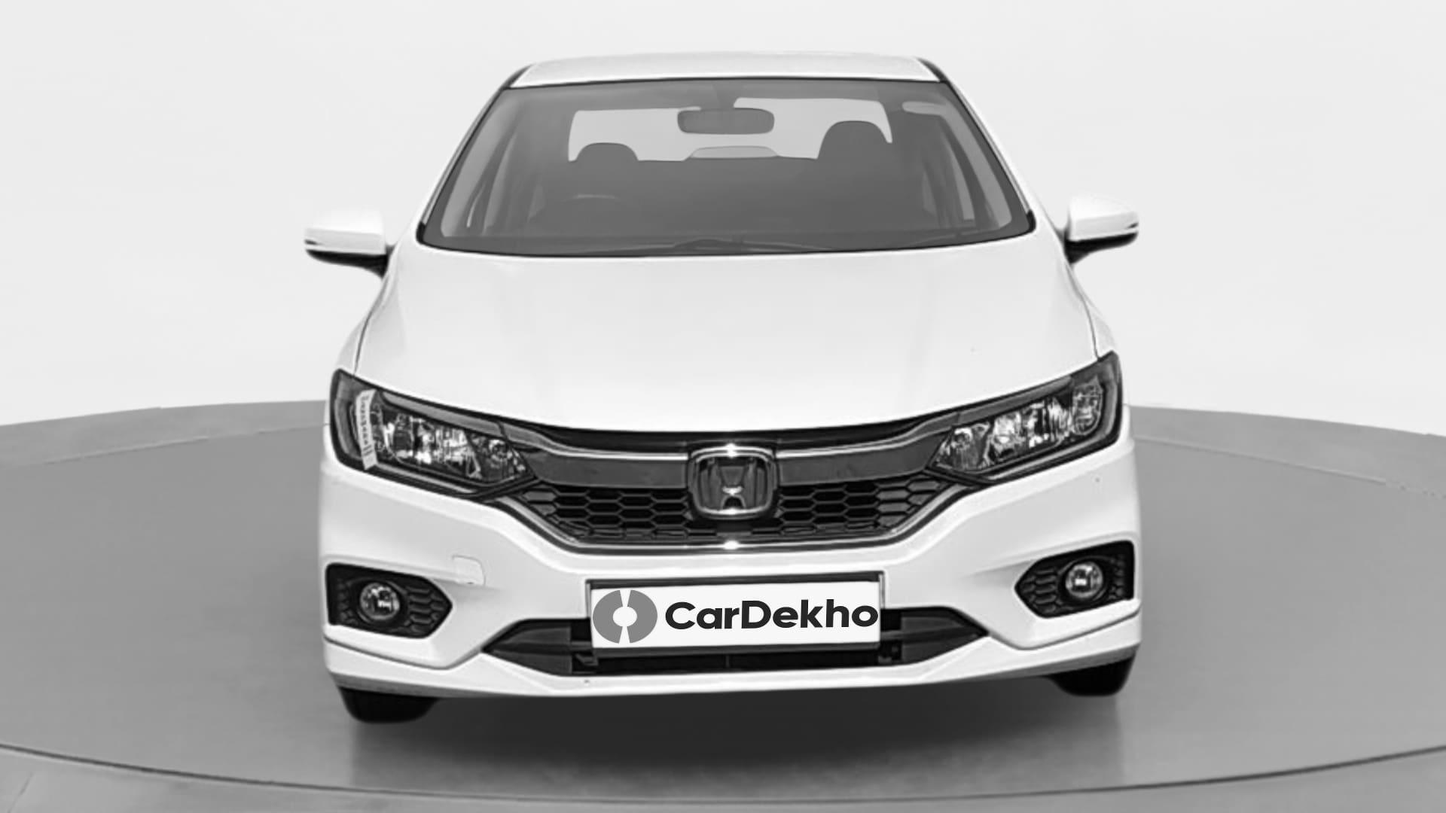Car hood: (329, 244, 1123, 439)
Front bumper: (309, 441, 1155, 703)
Headlight - -L-: (919, 344, 1130, 482)
Headlight - -R-: (302, 364, 550, 510)
Side mirror - -L-: (1053, 181, 1150, 276)
Side mirror - -R-: (294, 186, 400, 293)
